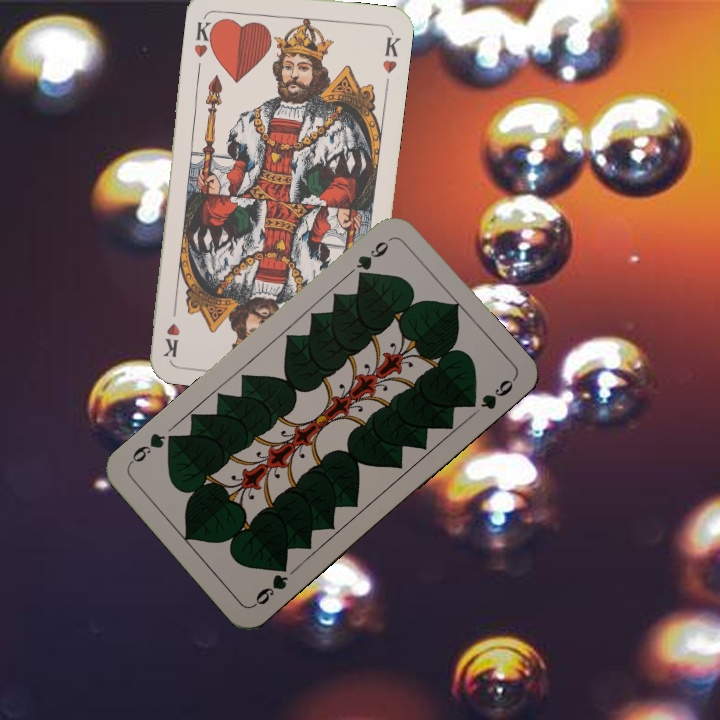G9: (249, 558, 291, 609), (351, 234, 394, 283)
HK: (190, 10, 219, 60)
